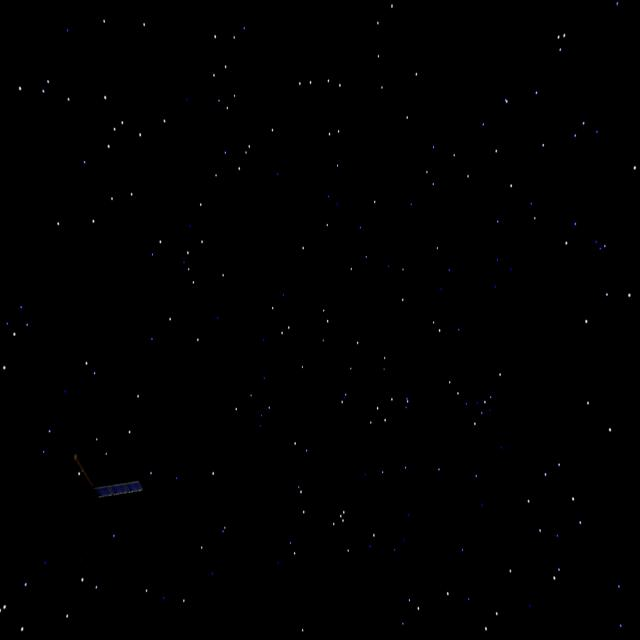satellite: (45, 438, 146, 604)
